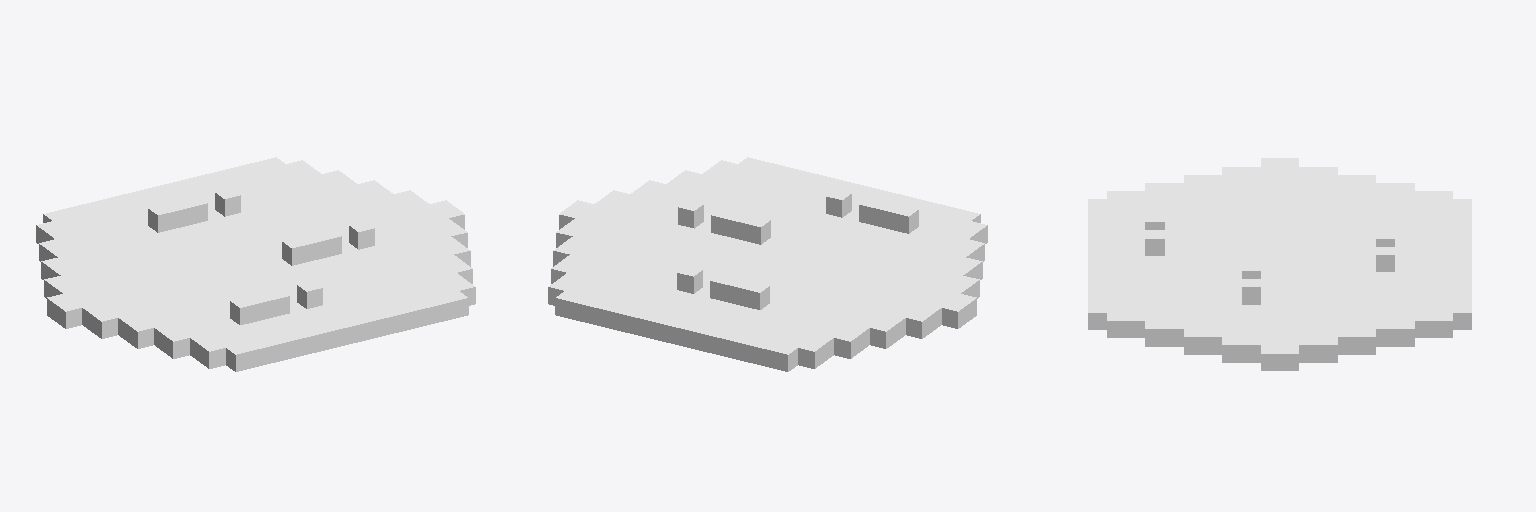
The model's file is overworld-47-ocean_fish.obj.
3 renders of one model, left to right at view 1: azimuth 30°, elevation 25°; view 2: azimuth 150°, elevation 25°; view 3: azimuth 270°, elevation 25°, orthographic.
Parts seen in each view (by area): view 1: ocean_fish; view 2: ocean_fish; view 3: ocean_fish.
Boxes of the visible parts, x1,y1,x2,y2 form: ocean_fish: [36, 157, 475, 371]; ocean_fish: [548, 157, 987, 371]; ocean_fish: [1088, 158, 1471, 370].
Bounding box in the file's own units: 2.4 × 0.2 × 2.